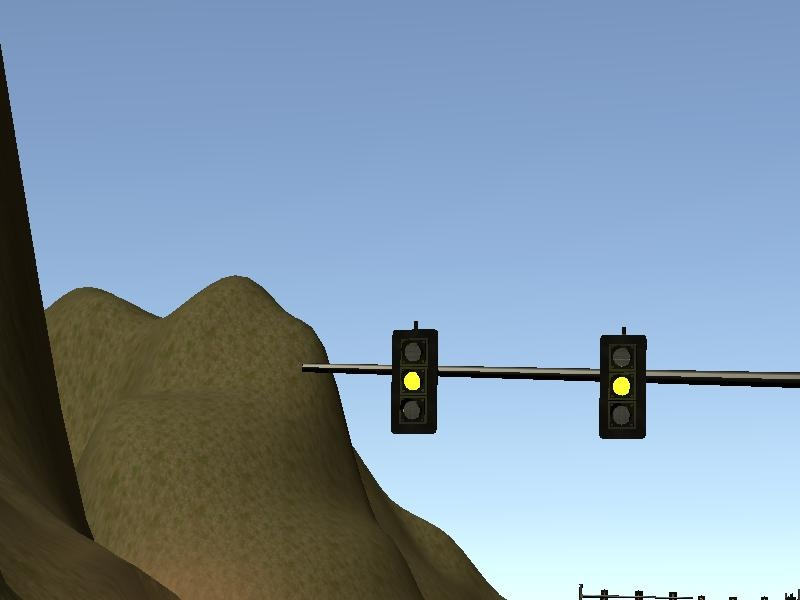YELLOW: (389, 327, 442, 434), (596, 333, 649, 440)
